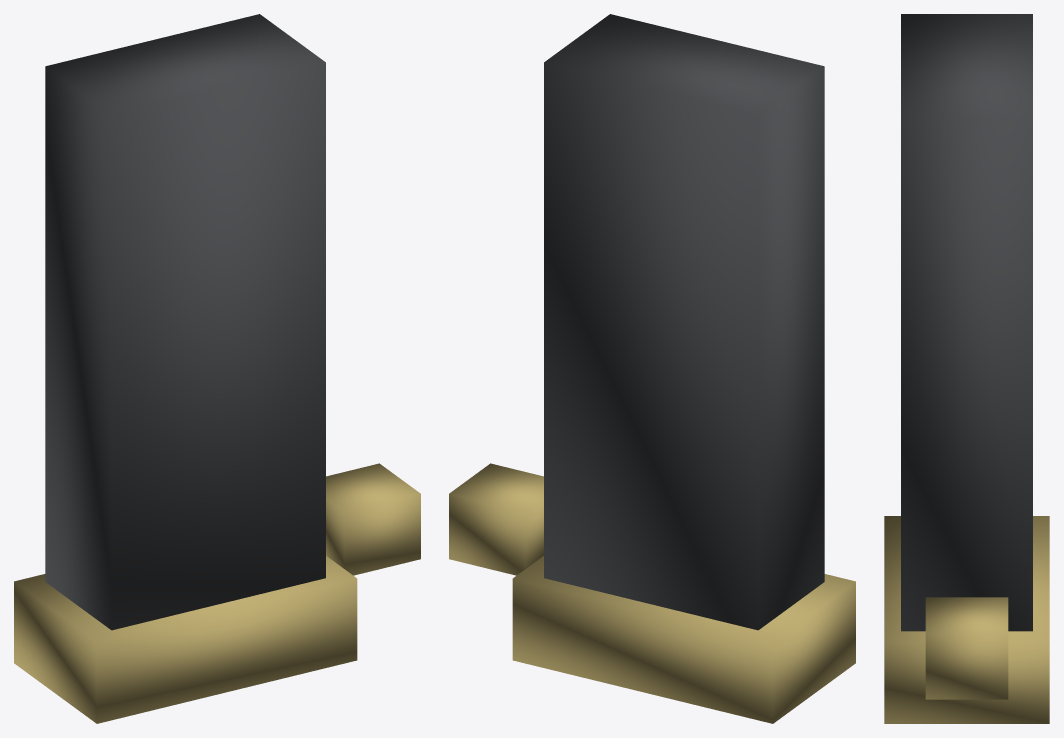
The model's file is dock_bumper_02.glb.
3 renders of one model, left to right at view 1: azimuth 30°, elevation 25°; view 2: azimuth 150°, elevation 25°; view 3: azimuth 270°, elevation 25°, orthographic.
Visible parts, largest first — view 1: world; view 2: world; view 3: world.
Part boxes in pixels (x1=…): world: x1=14, y1=14, x2=420, y2=723; world: x1=449, y1=14, x2=855, y2=723; world: x1=884, y1=14, x2=1049, y2=723.
Bounding box in the file's own units: 0.432 × 0.7154 × 0.18.
